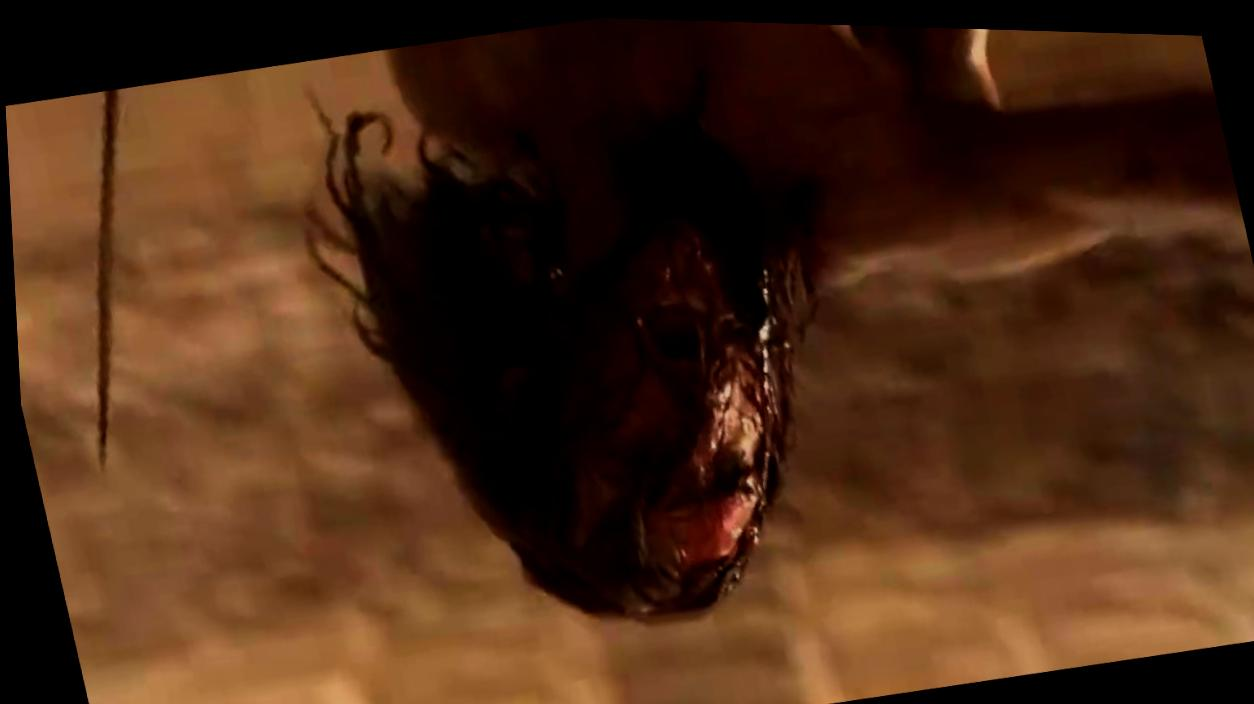Fire: (537, 203, 805, 575)
